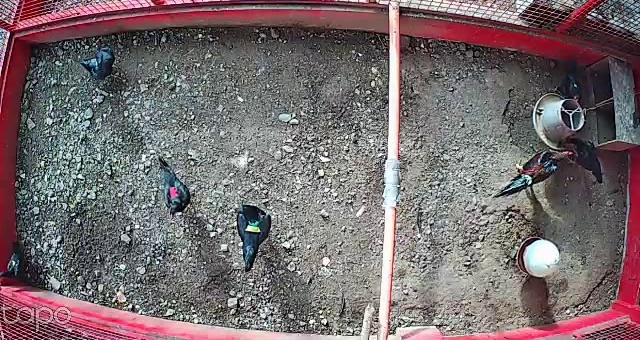Chicken: (233, 199, 274, 273), (73, 42, 131, 91), (154, 154, 194, 219), (563, 137, 610, 184), (548, 60, 588, 111), (0, 238, 34, 285)
Rooster: (489, 148, 573, 200)
Saddle_Color_Red: (167, 186, 181, 199)
Saddle_Color_YellowGreen: (245, 220, 259, 233)
